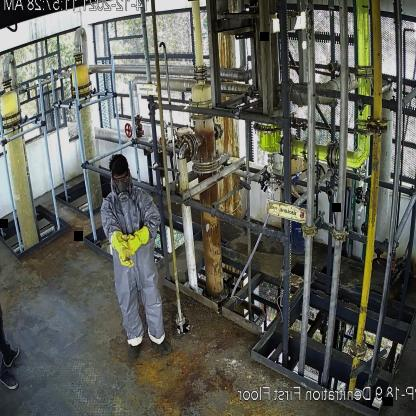goggles: (111, 172, 129, 182)
mask: (115, 179, 131, 202)
